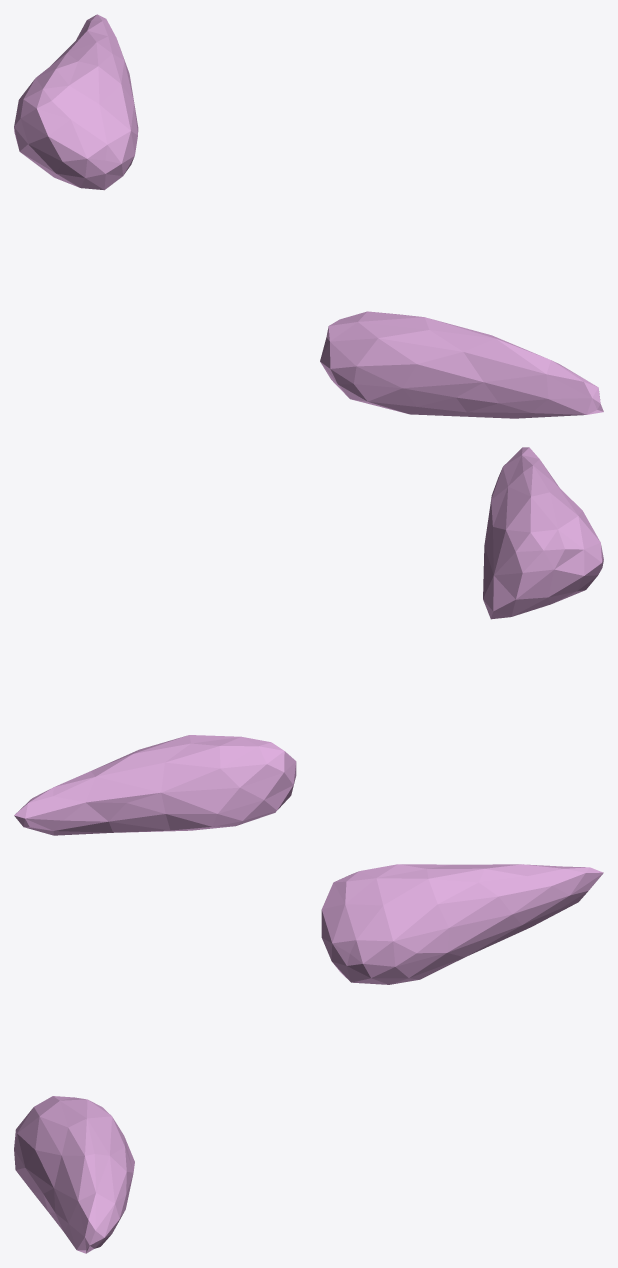
3 views of the same model, one above another, from view 1: azimuth 30°, elevation 25°; view 2: azimuth 150°, elevation 25°; view 3: azimuth 330°, elevation 25° (orthographic). The views are drawn at different scales.
Visible parts, largest first — view 1: 706.obj; view 2: 706.obj; view 3: 706.obj.
Part boxes in pixels (x1,y1,x2,y2): 706.obj: [14, 14, 603, 418]; 706.obj: [14, 447, 603, 835]; 706.obj: [14, 864, 603, 1253].
Size of the model in its own units: 427 by 214 by 2079.
